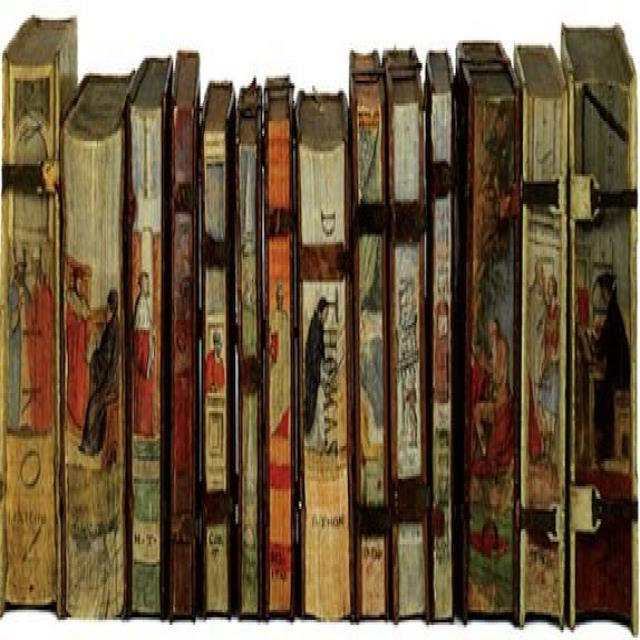book: (579, 83, 631, 622), (69, 141, 118, 610), (472, 101, 515, 615), (10, 66, 51, 597), (302, 156, 346, 610), (529, 91, 564, 615), (129, 113, 162, 608), (269, 141, 294, 607), (359, 101, 381, 610), (397, 113, 419, 608), (433, 101, 452, 617), (176, 111, 194, 610), (205, 141, 223, 602), (240, 146, 256, 607)
